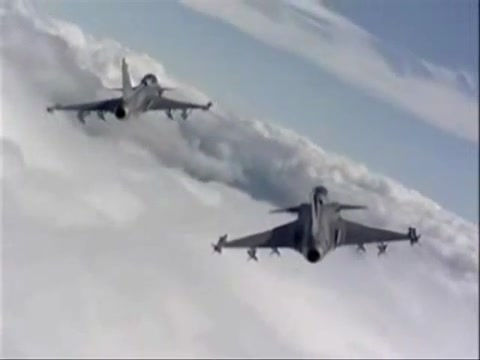aeroplane: (50, 58, 215, 127)
